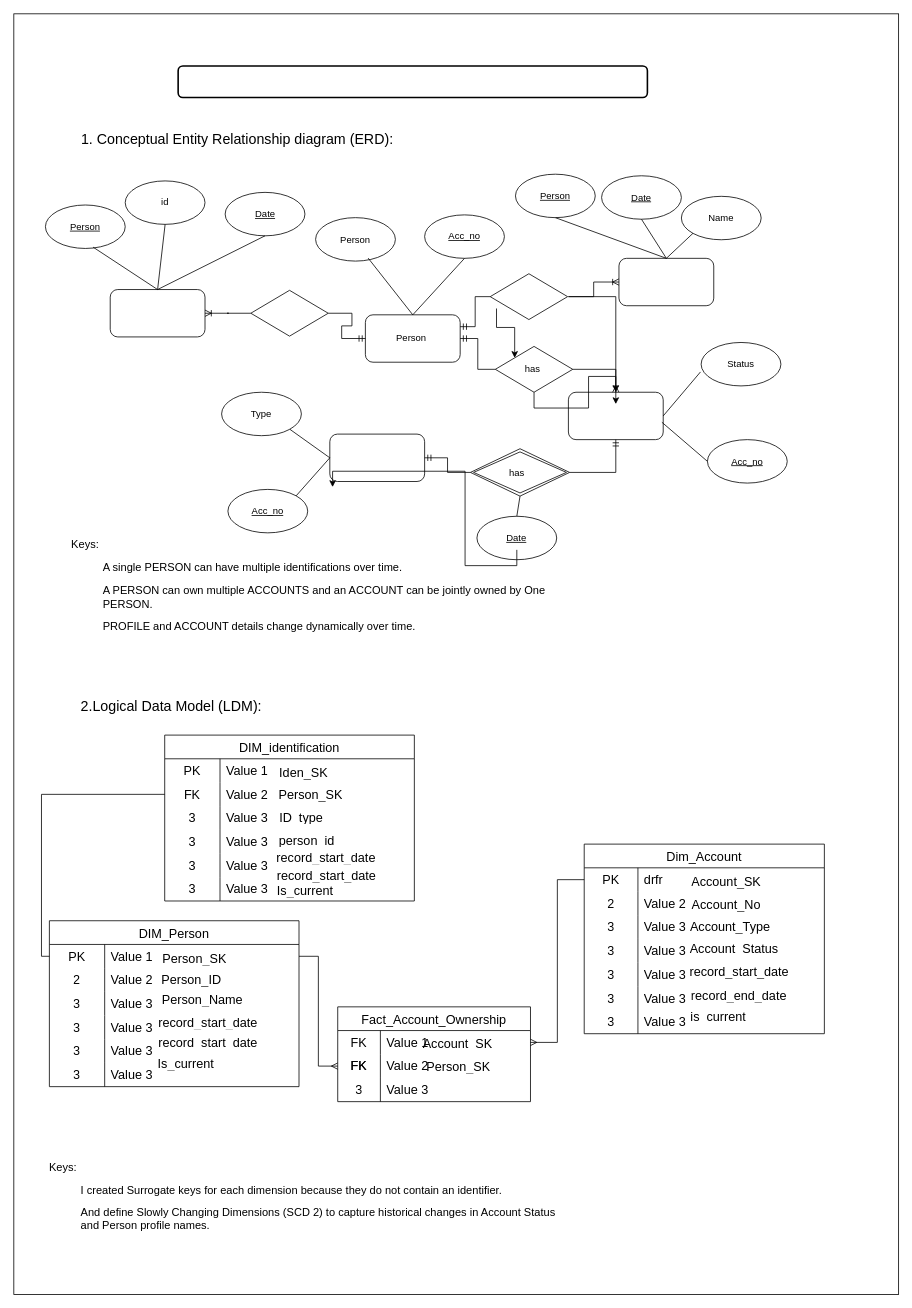
Some shapes in this 912 by 1308 pixel diagram are drawn without their labels. The shapes that lost their labels are listed below. From the top down, each one's centre as x and y in pixels, then its label:
(x=412, y=81): * Build Complete DWH model Starting FROM ERD, LDM, to PDM
(x=528, y=296): has Profile
(x=666, y=282): Person Profile
(x=157, y=313): Person Iden
(x=289, y=313): has identity
(x=615, y=415): Accounts
(x=377, y=457): Account Details
